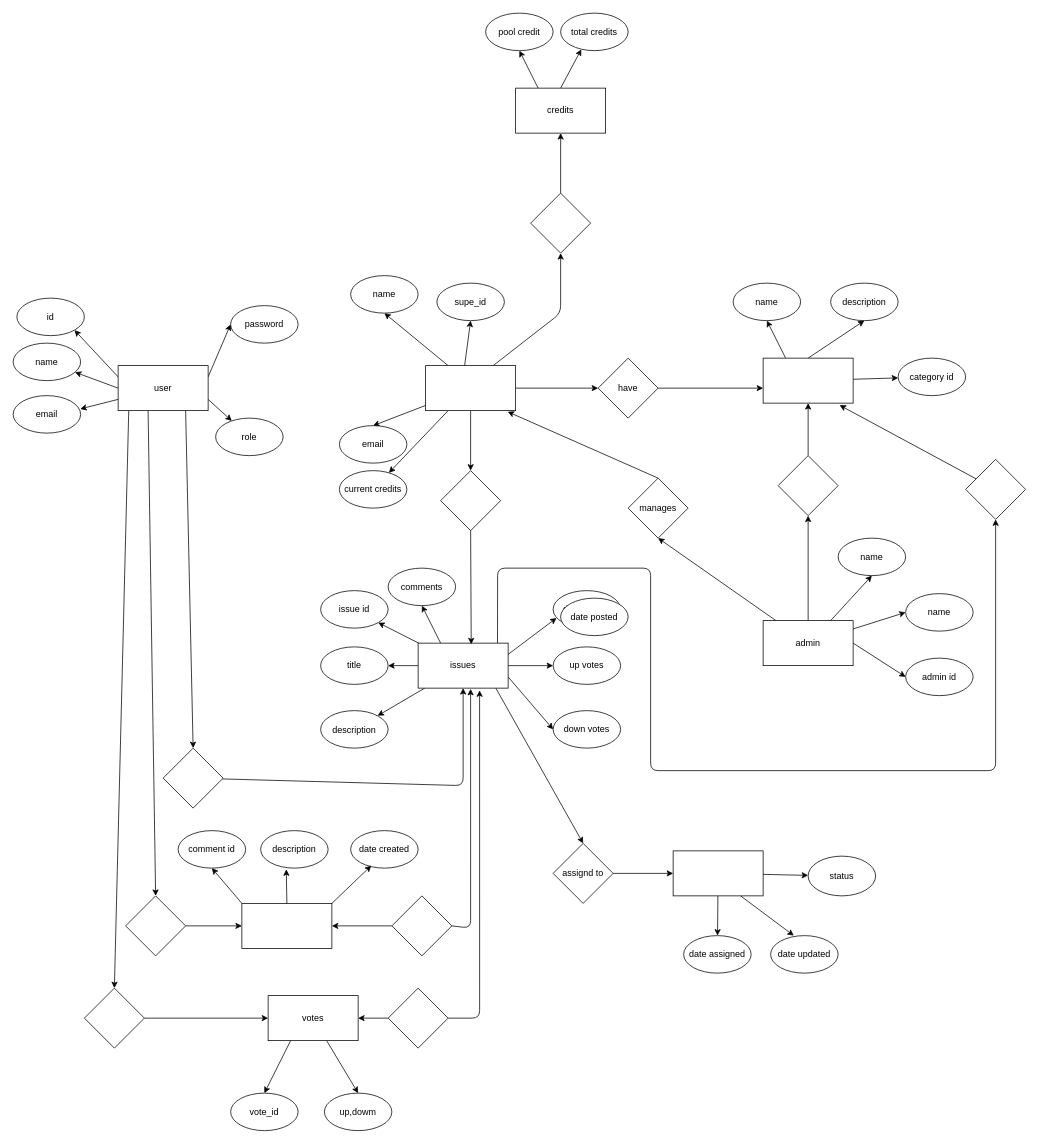
Some shapes in this 1039 by 1144 pixel diagram are drawn without their labels. The box of each missing label's shape, as (x1, y1, x2, y2) in pixels:
assignments: (672, 850, 763, 896)
castes: (84, 987, 144, 1048)
category: (762, 357, 853, 403)
comment: (241, 903, 332, 948)
complaints: (162, 747, 223, 808)
creates: (777, 455, 838, 516)
divides into: (965, 459, 1026, 519)
earns: (530, 192, 591, 253)
gets: (391, 895, 452, 956)
recives: (387, 987, 448, 1048)
solves: (440, 470, 501, 531)
supervisors: (425, 365, 516, 411)
writes: (125, 895, 186, 956)
